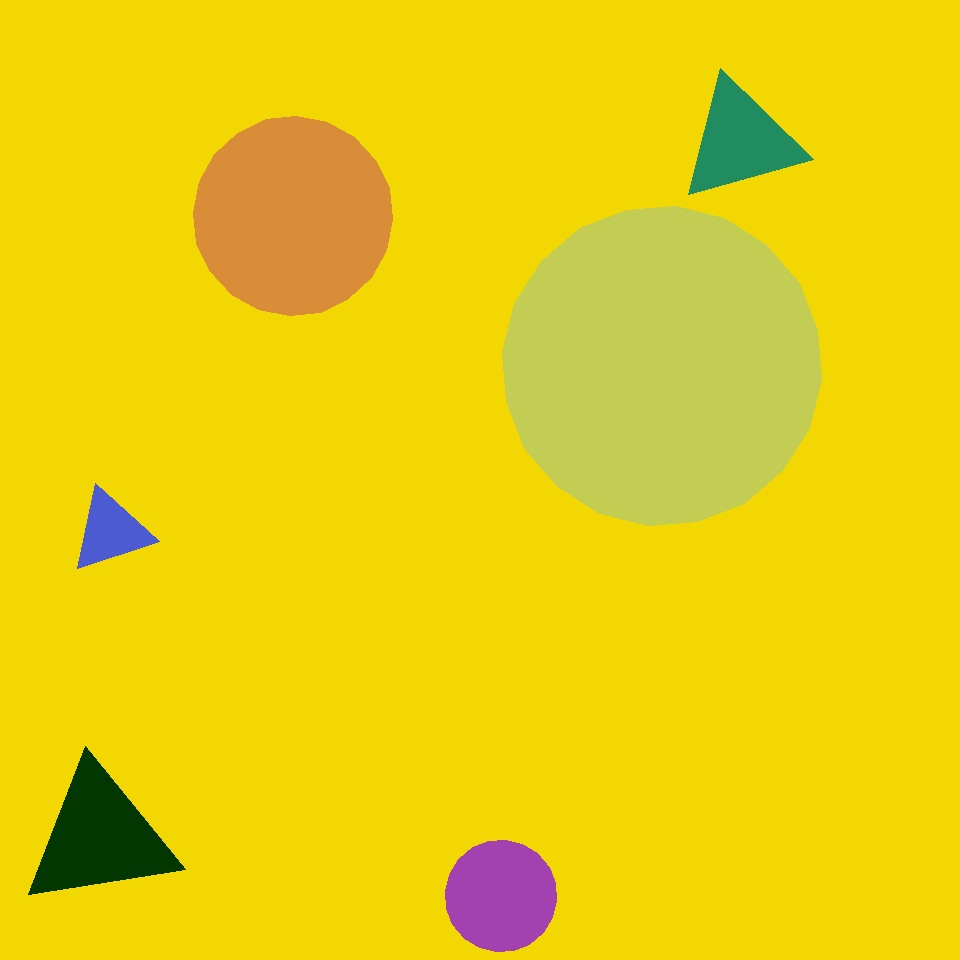circle: (468, 749, 653, 937), (22, 763, 178, 911), (678, 78, 804, 204), (70, 488, 152, 574), (52, 606, 125, 688)
triangle: (297, 504, 652, 859), (502, 206, 822, 526), (638, 564, 928, 853), (194, 116, 392, 316), (446, 840, 556, 952), (73, 361, 177, 465)
